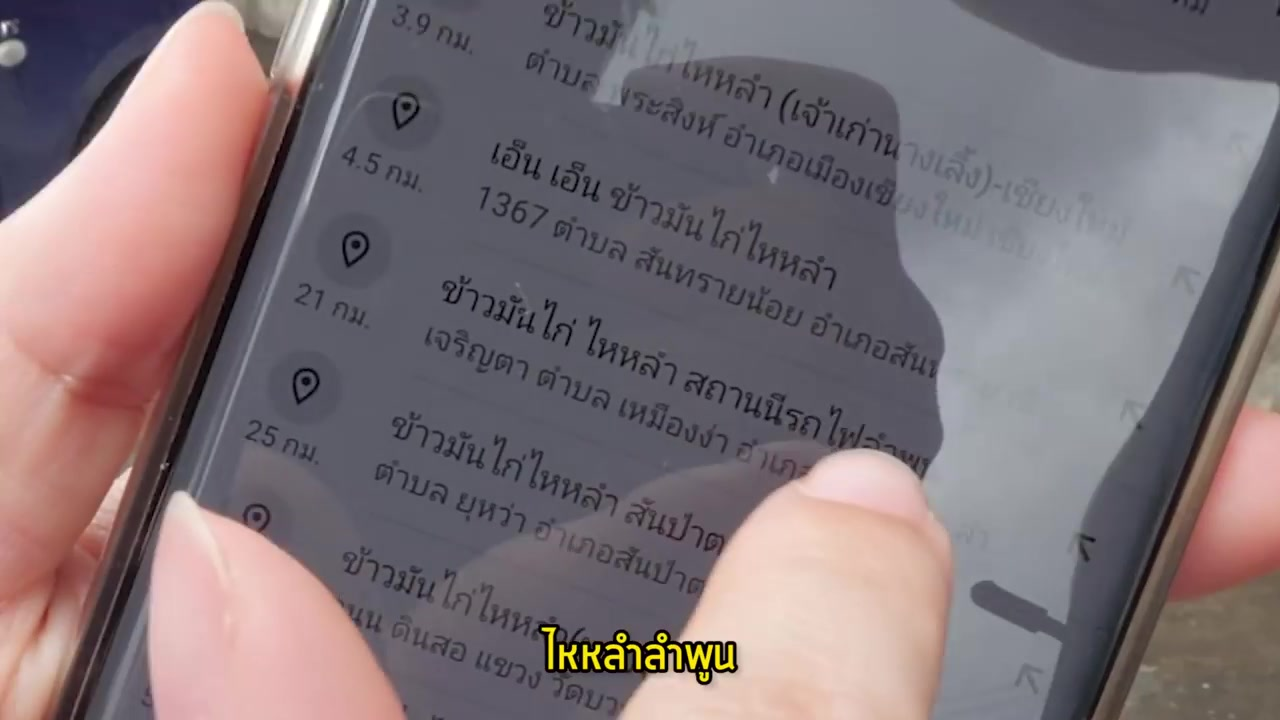text-label: (538, 620, 741, 687)
